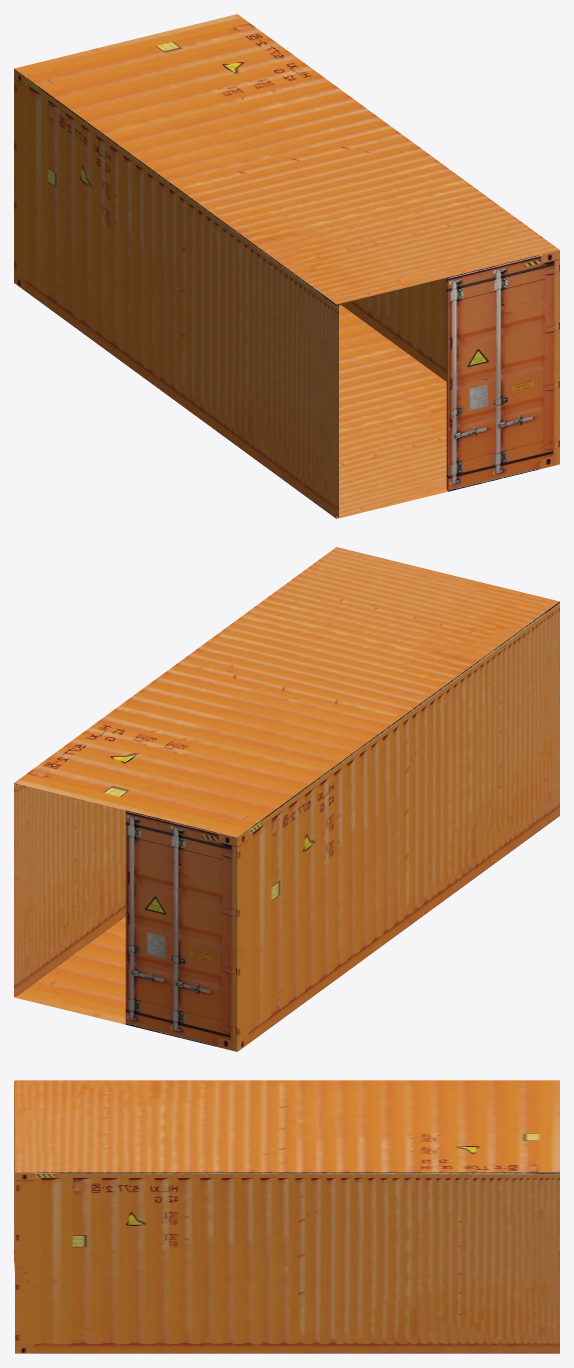
Rendered from container_shell.glb.
3 renders of one model, top to bottom at view 1: azimuth 30°, elevation 25°; view 2: azimuth 150°, elevation 25°; view 3: azimuth 270°, elevation 25°, orthographic. The views are drawn at different scales.
Visible parts, largest first — view 1: container_shell; view 2: container_shell; view 3: container_shell.
Boxes of the visible parts, <box> form: container_shell: <box>14,14,559,518</box>; container_shell: <box>14,547,559,1051</box>; container_shell: <box>14,1080,559,1353</box>.
Bounding box in the file's own units: 2.4 × 2.2 × 6.
Materials: 1 (1 with a texture image).
